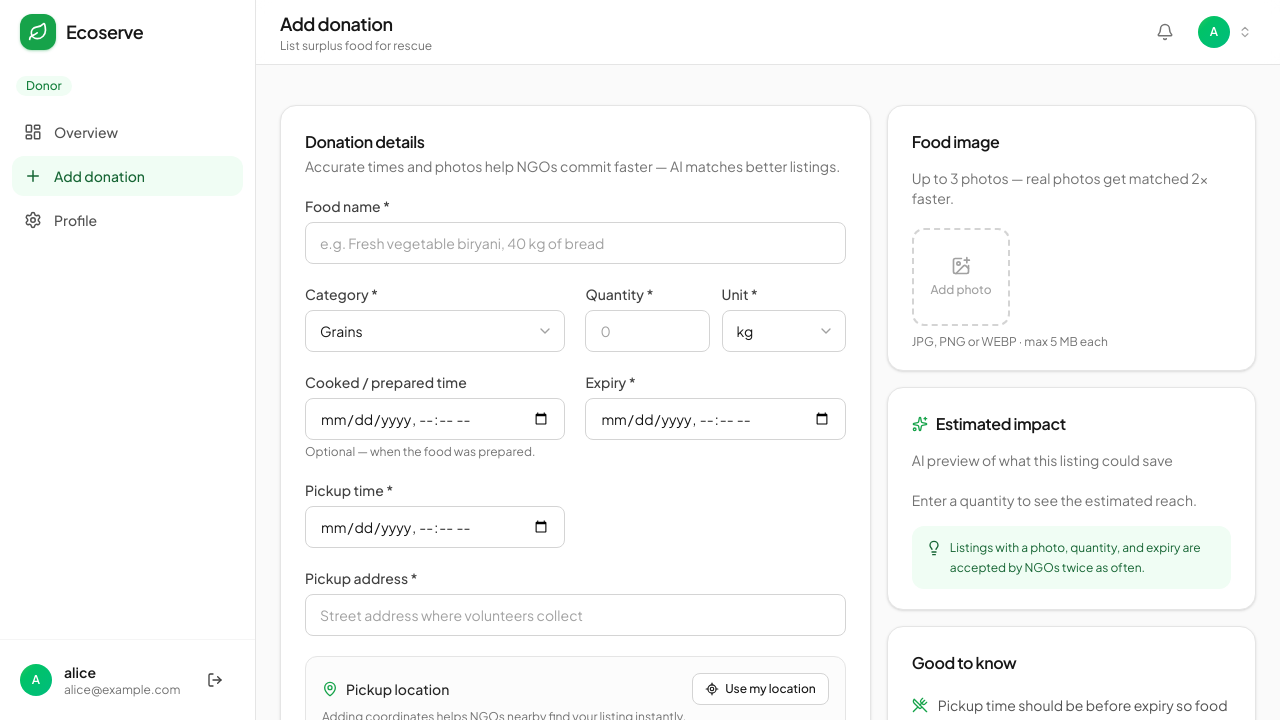
Test: NewDonationPage › shows an error toast when the listing API fails and stays on the form
Type "Paneer Biryani" into the field labelled "Food name *".
click(575, 243); type("Paneer Biryani")  # box left=305, top=222, right=846, bottom=264
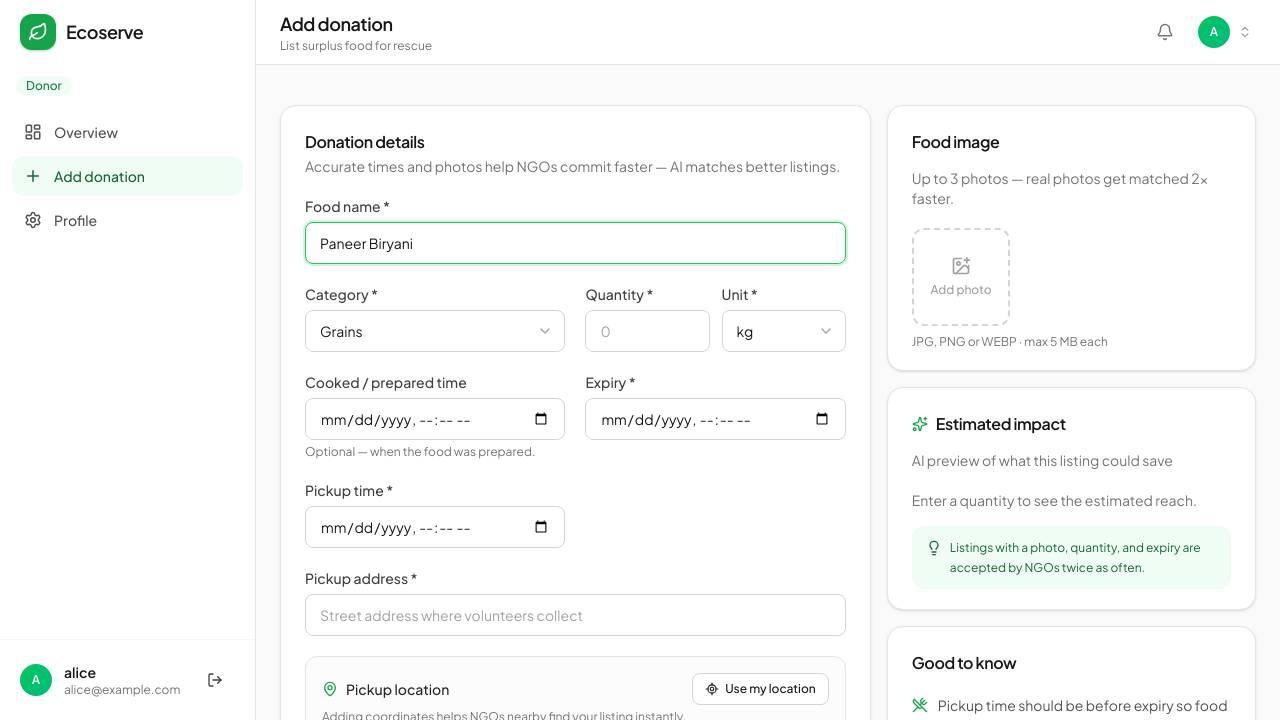
Type "10" into the number field labelled "Quantity *".
click(648, 331); type("10")  # box left=585, top=310, right=710, bottom=352
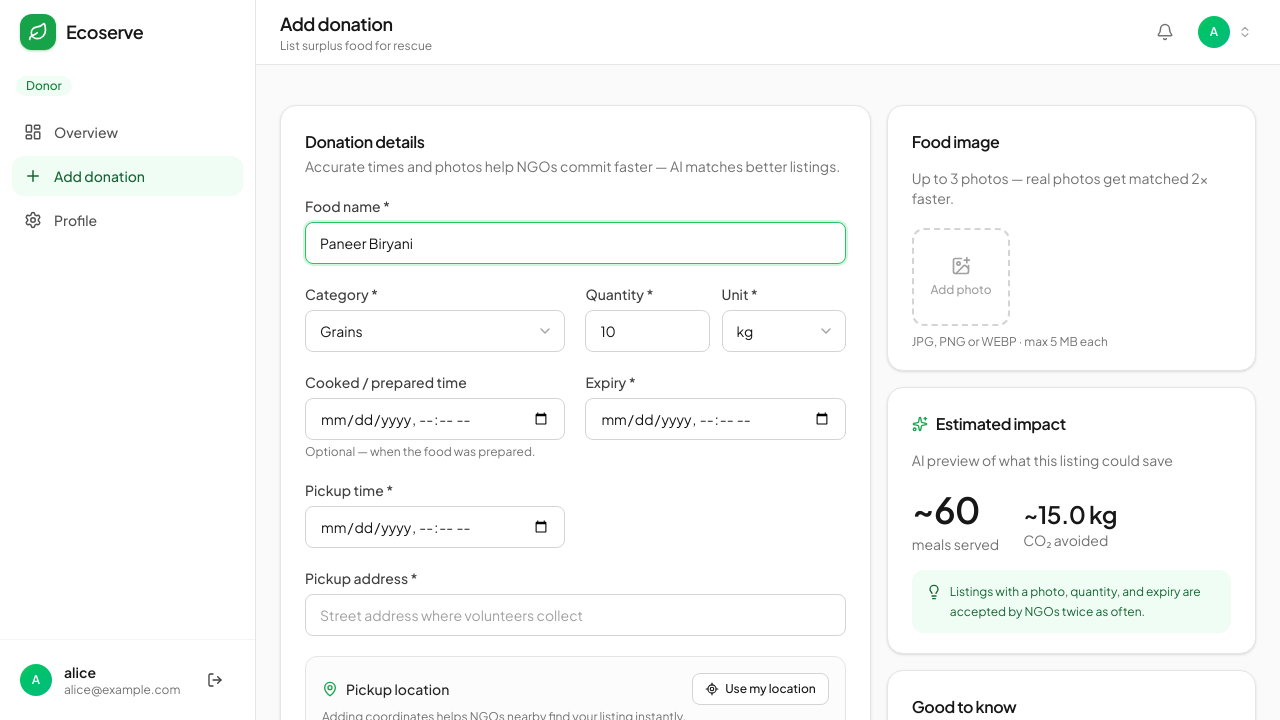
Type "2026-08-10T16:00" into the field labelled "Expiry *".
click(716, 419); type("2026-08-10T16:00")  # box left=585, top=398, right=846, bottom=440
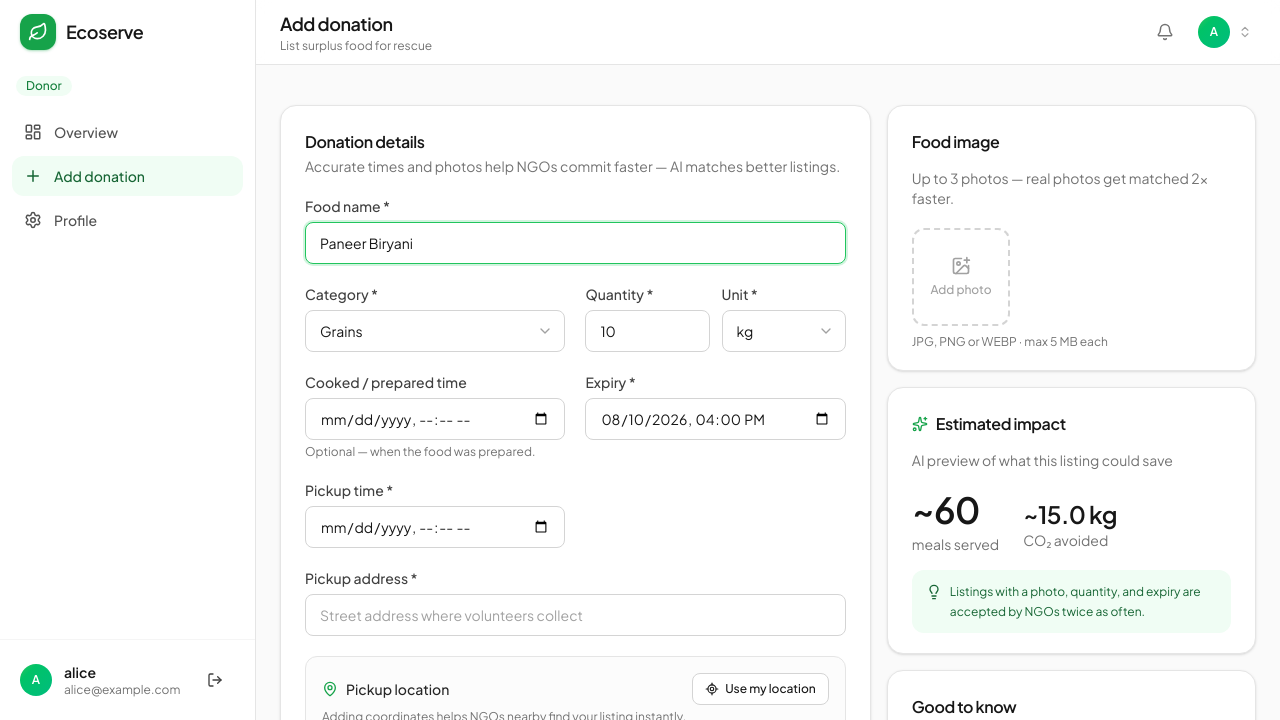
Type "2026-08-10T14:00" into the field labelled "Pickup time *".
click(435, 527); type("2026-08-10T14:00")  # box left=305, top=506, right=565, bottom=548
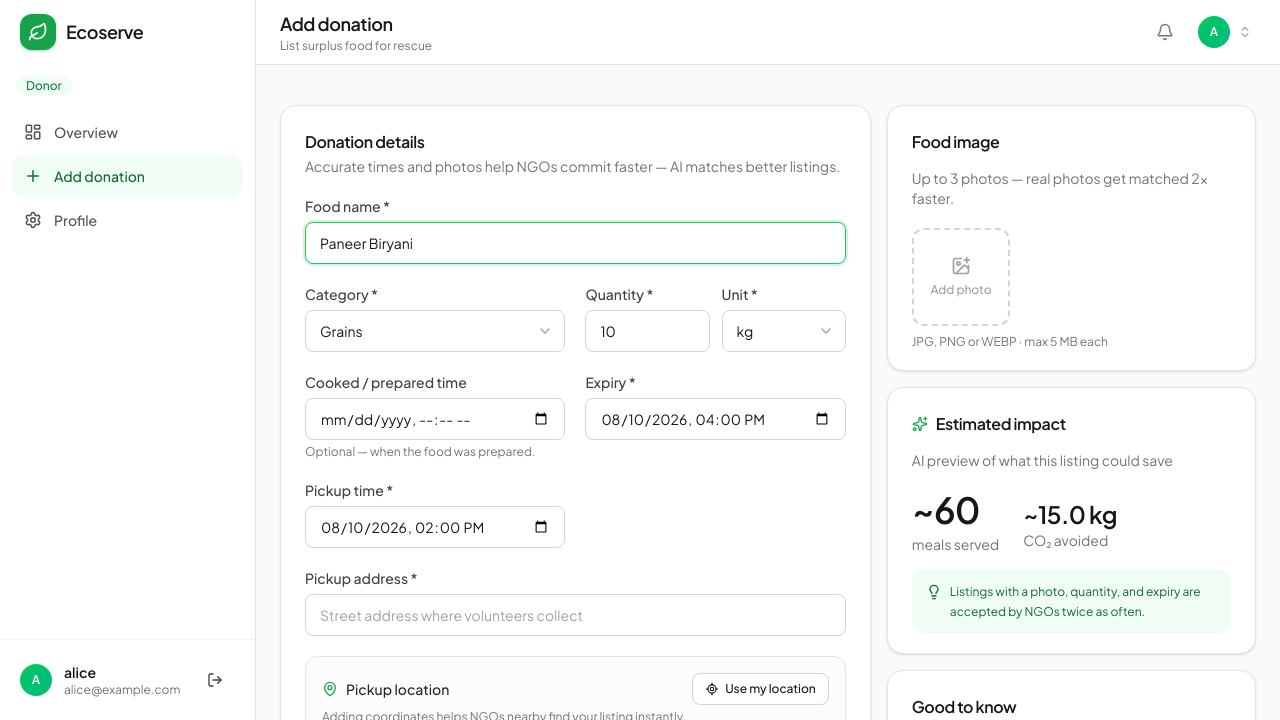
Type "12 MG Road, Bengaluru" into the field labelled "Pickup address *".
click(575, 615); type("12 MG Road, Bengaluru")  # box left=305, top=594, right=846, bottom=636
(page scrolled)
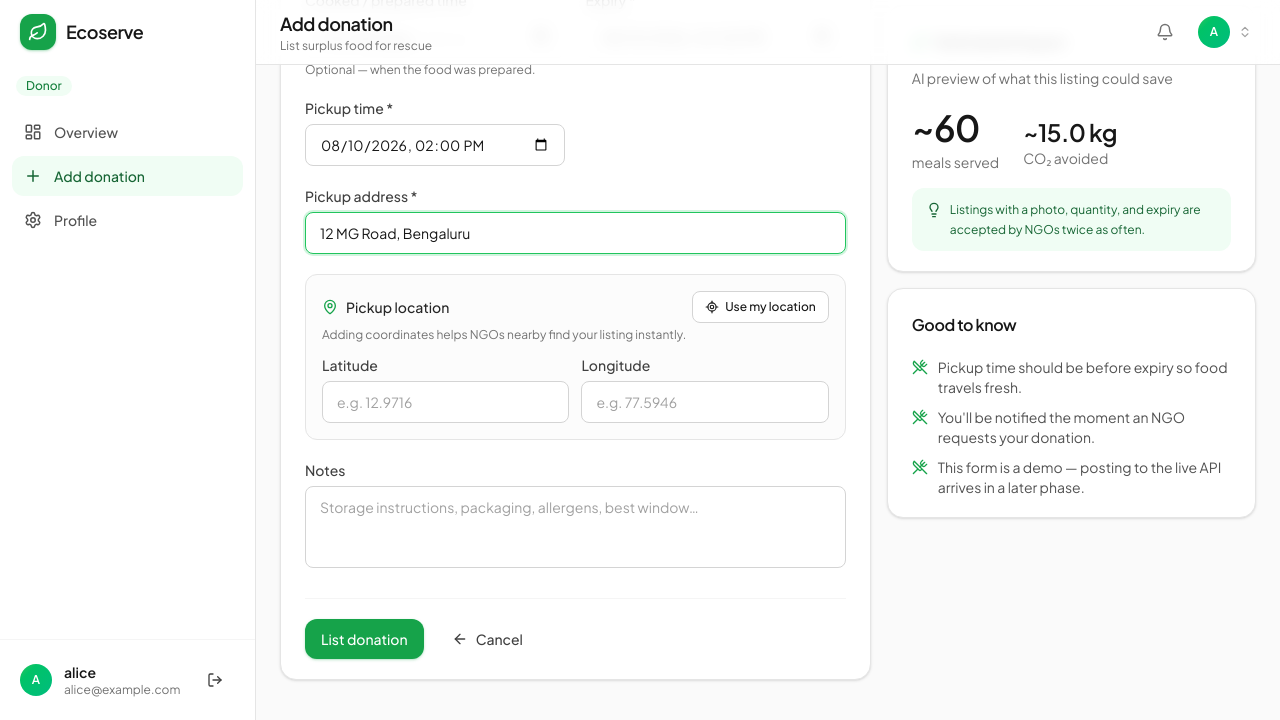
Click the button "List donation".
click(364, 639)  # box left=305, top=619, right=424, bottom=659
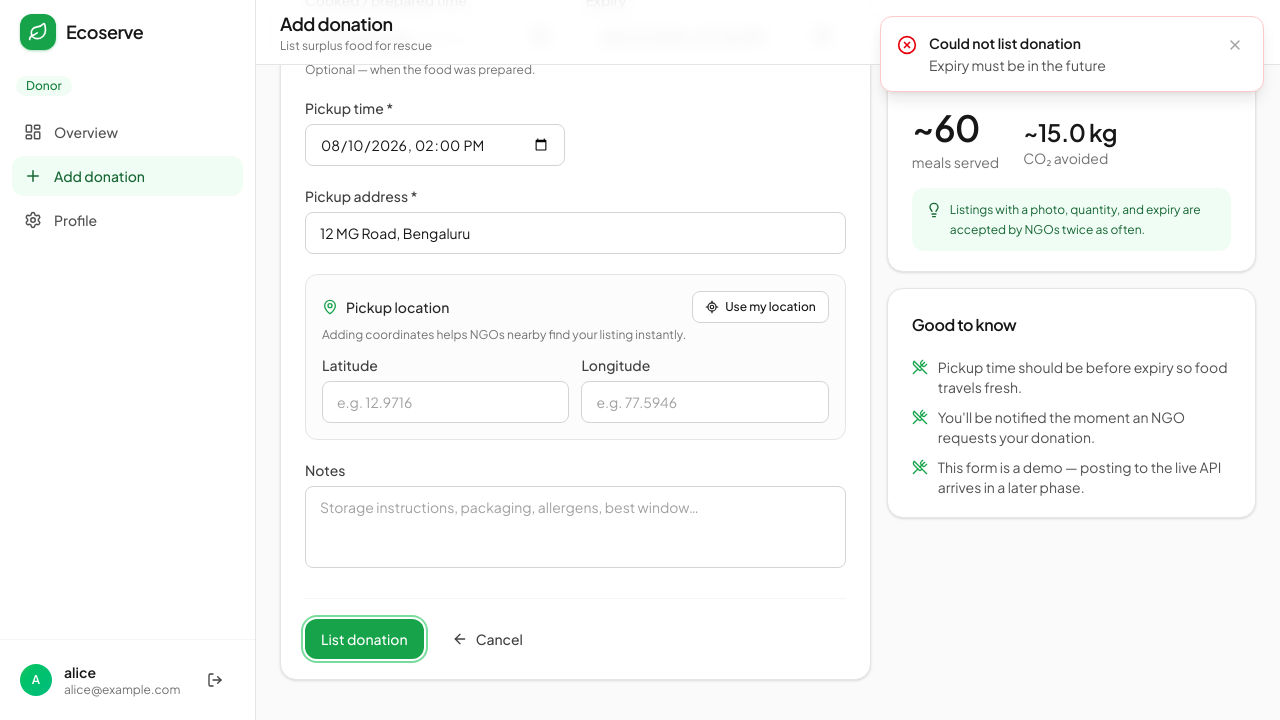
Result: the text "Could not list donation" is shown at left=929, top=34, right=1081, bottom=52
Result: the text "Expiry must be in the future" is shown at left=929, top=56, right=1106, bottom=74
